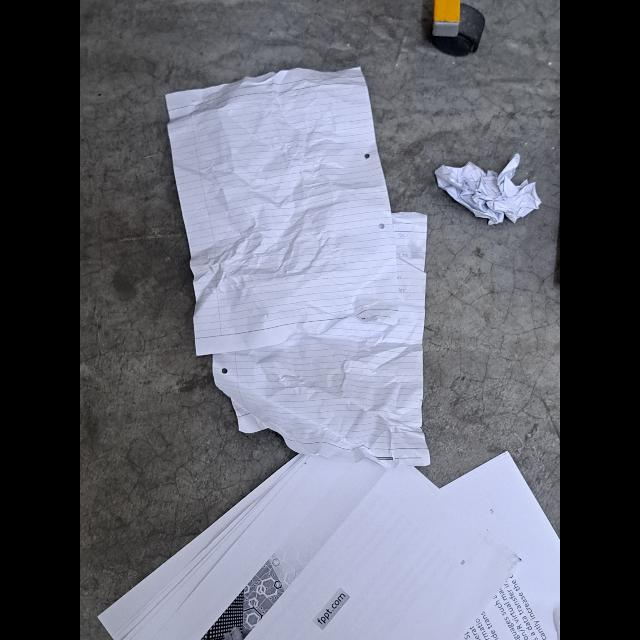papel: (162, 70, 432, 470), (96, 442, 560, 640), (435, 154, 539, 228)
